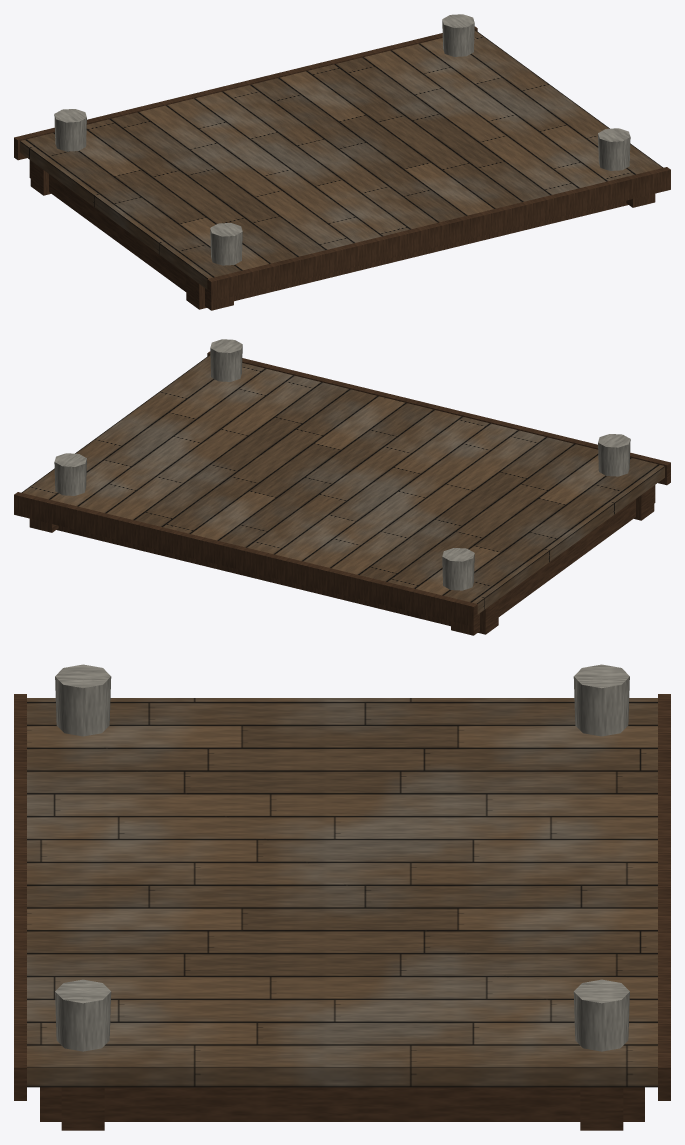
File: SM_Art_Pier_405x300x100_P-25.gltf
3 renders of one model, top to bottom at view 1: azimuth 30°, elevation 25°; view 2: azimuth 150°, elevation 25°; view 3: azimuth 270°, elevation 25°, orthographic. The views are drawn at different scales.
Visible parts, largest first — view 1: SM_Art_Pier_405x300x100_P-25; view 2: SM_Art_Pier_405x300x100_P-25; view 3: SM_Art_Pier_405x300x100_P-25.
Boxes of the visible parts, x1,y1,x2,y2 form: SM_Art_Pier_405x300x100_P-25: (14,14,670,310); SM_Art_Pier_405x300x100_P-25: (14,339,670,635); SM_Art_Pier_405x300x100_P-25: (14,664,670,1130).
Size of the model in its own units: 4.09 by 0.5701 by 3.04.
Materials: 3 (3 with a texture image).
